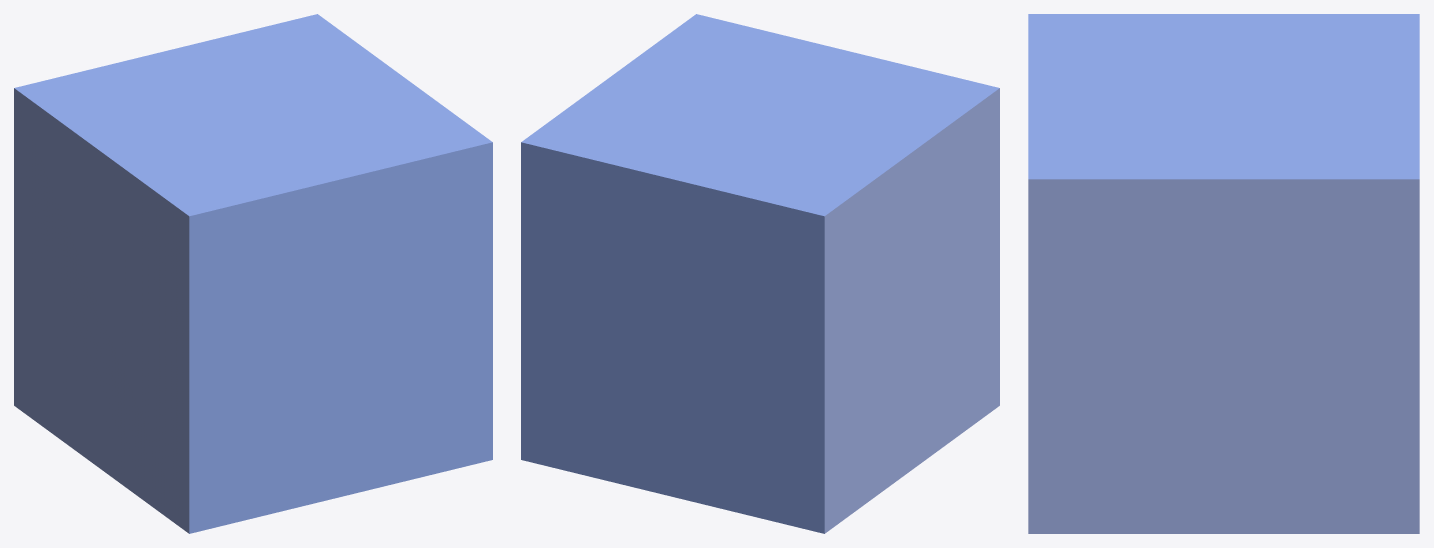
File: Crate.fbx
The picture shows the model from 3 angles, left to right: view 1: azimuth 30°, elevation 25°; view 2: azimuth 150°, elevation 25°; view 3: azimuth 270°, elevation 25°; orthographic projection. The views are drawn at different scales.
Parts seen in each view (by area): view 1: DiamondOuterOld; view 2: DiamondOuterOld; view 3: DiamondOuterOld.
Part boxes in pixels (box(x1,y1,x2,y2)): DiamondOuterOld: box(14, 14, 492, 533); DiamondOuterOld: box(521, 14, 999, 533); DiamondOuterOld: box(1028, 14, 1419, 533).
Size of the model in its own units: 18.75 by 18.75 by 18.75.
Materials: 2 (2 with a texture image).
